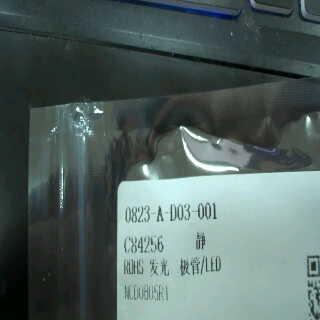LED: (145, 253, 228, 279)
